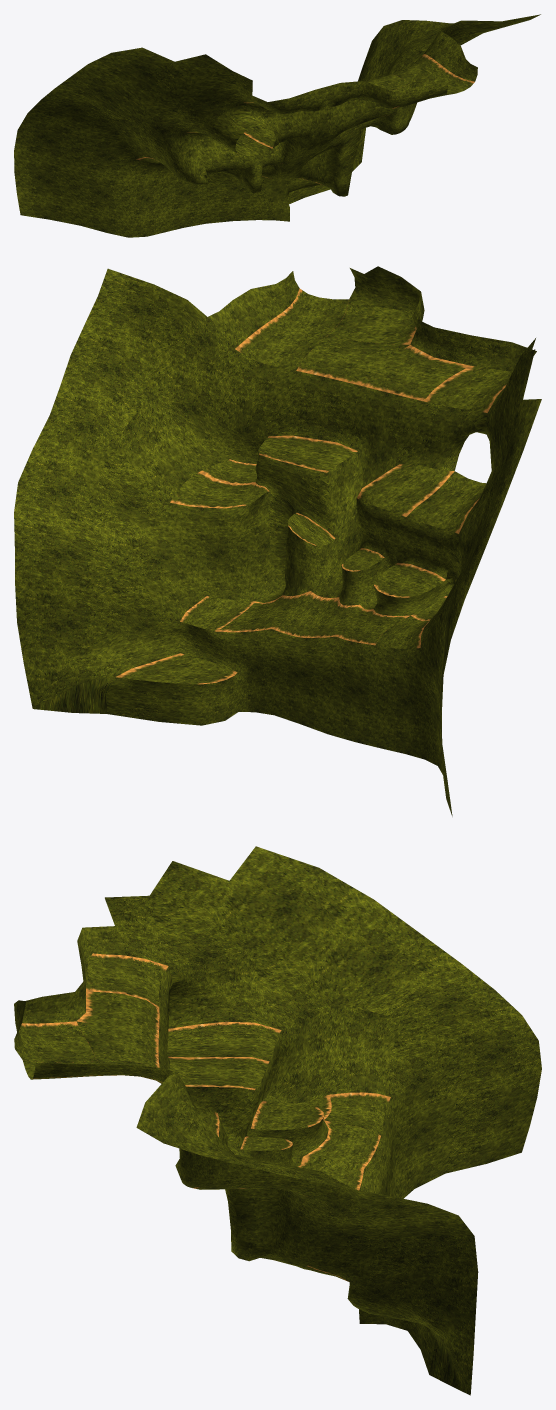
Rendered from TROLLHOLE02_PS-FRONT08.fbx.
3 renders of one model, top to bottom at view 1: azimuth 30°, elevation 25°; view 2: azimuth 150°, elevation 25°; view 3: azimuth 270°, elevation 25°, orthographic. The views are drawn at different scales.
Parts seen in each view (by area): view 1: TROLLHOLE02_PS-FRONT08; view 2: TROLLHOLE02_PS-FRONT08; view 3: TROLLHOLE02_PS-FRONT08.
Boxes of the visible parts, x1,y1,x2,y2 form: TROLLHOLE02_PS-FRONT08: (14, 14, 540, 237); TROLLHOLE02_PS-FRONT08: (14, 266, 541, 816); TROLLHOLE02_PS-FRONT08: (14, 846, 541, 1395).
Size of the model in its own units: 366597 by 229313 by 304422.
7 materials, 7 textured.
